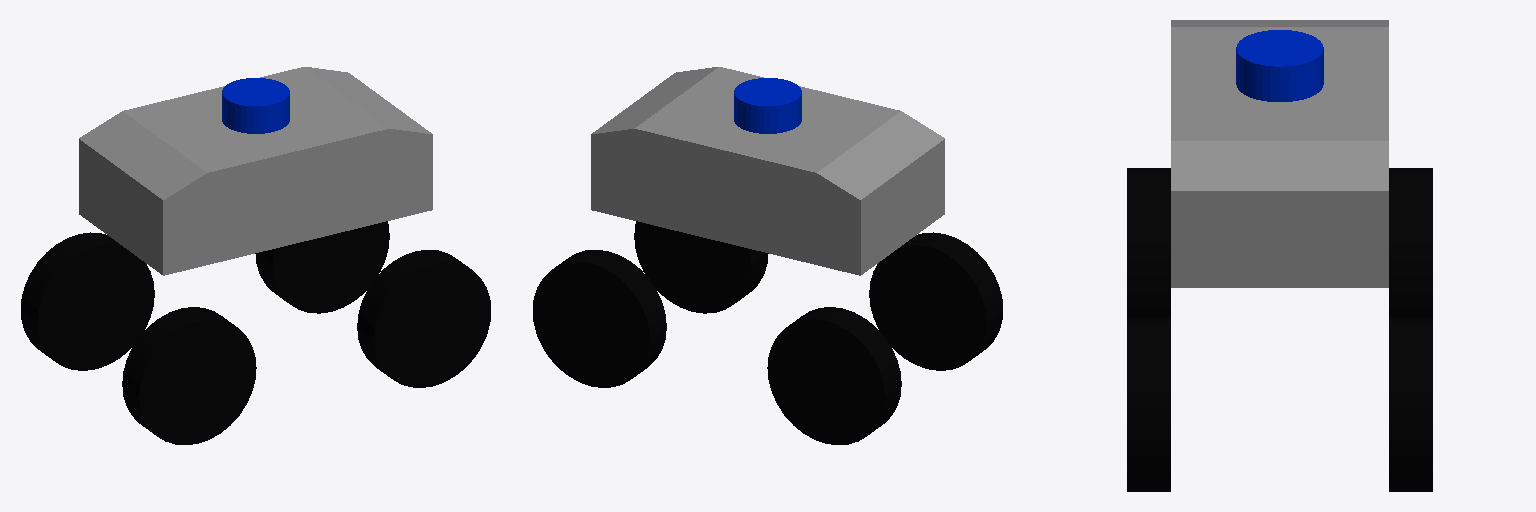
The robot description file, URDF, robot "team12_robot":
<?xml version="1.0" ?>
<!-- =================================================================================== -->
<!-- |    This document was autogenerated by xacro from src/team12_description/urdf/team12_amr.xacro | -->
<!-- |    EDITING THIS FILE BY HAND IS NOT RECOMMENDED                                 | -->
<!-- =================================================================================== -->
<robot name="team12_robot">
  <!-- ================= INERTIA MACROS ================= -->
  <!-- ================= MATERIALS ================= -->
  <material name="grey">
    <color rgba="0.6 0.6 0.6 1.0"/>
  </material>
  <material name="black">
    <color rgba="0.05 0.05 0.05 1.0"/>
  </material>
  <material name="blue">
    <color rgba="0.0 0.2 0.8 1.0"/>
  </material>
  <!-- ================= BASE LINK ================= -->
  <link name="base_link"/>
  <!-- ================= CHASSIS ================= -->
  <link name="chassis_link">
    <inertial>
      <mass value="15.0"/>
      <origin xyz="0 0 0"/>
      <inertia ixx="0.190625" ixy="0.0" ixz="0.0" iyy="0.342625" iyz="0.0" izz="0.377"/>
    </inertial>
    <visual>
      <origin rpy="0 0 0" xyz="0 0 0"/>
      <geometry>
        <mesh filename="package://team12_description/meshes/chassis.stl" scale="0.001 0.001 0.001"/>
      </geometry>
      <material name="grey"/>
    </visual>
    <collision>
      <origin rpy="0 0 0" xyz="0 0 0"/>
      <geometry>
        <mesh filename="package://team12_description/meshes/chassis.stl" scale="0.001 0.001 0.001"/>
      </geometry>
    </collision>
  </link>
  <joint name="base_joint" type="fixed">
    <parent link="base_link"/>
    <child link="chassis_link"/>
    <origin rpy="0 0 0" xyz="0 0 0.10"/>
  </joint>
  <!-- ================= WHEEL MACRO ================= -->
  <!-- ================= WHEELS ================= -->
  <link name="front_left_wheel_link">
    <inertial>
      <mass value="2.0"/>
      <origin xyz="0 0 0"/>
      <inertia ixx="0.005416666666666668" ixy="0.0" ixz="0.0" iyy="0.010000000000000002" iyz="0.0" izz="0.005416666666666668"/>
    </inertial>
    <visual>
      <origin rpy="1.5708 0 0" xyz="0 0 0"/>
      <geometry>
        <cylinder length="0.05" radius="0.10"/>
      </geometry>
      <material name="black"/>
    </visual>
    <collision>
      <origin rpy="1.5708 0 0" xyz="0 0 0"/>
      <geometry>
        <cylinder length="0.05" radius="0.10"/>
      </geometry>
    </collision>
  </link>
  <joint name="front_left_wheel_joint" type="continuous">
    <parent link="chassis_link"/>
    <child link="front_left_wheel_link"/>
    <origin rpy="0 0 0" xyz="0.2 0.15 -0.10"/>
    <axis xyz="0 1 0"/>
  </joint>
  <!-- Gazebo friction -->
  <gazebo reference="front_left_wheel_link">
    <mu1>1.0</mu1>
    <mu2>1.0</mu2>
    <kp>100000.0</kp>
    <kd>1.0</kd>
  </gazebo>
  <link name="front_right_wheel_link">
    <inertial>
      <mass value="2.0"/>
      <origin xyz="0 0 0"/>
      <inertia ixx="0.005416666666666668" ixy="0.0" ixz="0.0" iyy="0.010000000000000002" iyz="0.0" izz="0.005416666666666668"/>
    </inertial>
    <visual>
      <origin rpy="1.5708 0 0" xyz="0 0 0"/>
      <geometry>
        <cylinder length="0.05" radius="0.10"/>
      </geometry>
      <material name="black"/>
    </visual>
    <collision>
      <origin rpy="1.5708 0 0" xyz="0 0 0"/>
      <geometry>
        <cylinder length="0.05" radius="0.10"/>
      </geometry>
    </collision>
  </link>
  <joint name="front_right_wheel_joint" type="continuous">
    <parent link="chassis_link"/>
    <child link="front_right_wheel_link"/>
    <origin rpy="0 0 0" xyz="0.2 -0.15 -0.10"/>
    <axis xyz="0 1 0"/>
  </joint>
  <!-- Gazebo friction -->
  <gazebo reference="front_right_wheel_link">
    <mu1>1.0</mu1>
    <mu2>1.0</mu2>
    <kp>100000.0</kp>
    <kd>1.0</kd>
  </gazebo>
  <link name="rear_left_wheel_link">
    <inertial>
      <mass value="2.0"/>
      <origin xyz="0 0 0"/>
      <inertia ixx="0.005416666666666668" ixy="0.0" ixz="0.0" iyy="0.010000000000000002" iyz="0.0" izz="0.005416666666666668"/>
    </inertial>
    <visual>
      <origin rpy="1.5708 0 0" xyz="0 0 0"/>
      <geometry>
        <cylinder length="0.05" radius="0.10"/>
      </geometry>
      <material name="black"/>
    </visual>
    <collision>
      <origin rpy="1.5708 0 0" xyz="0 0 0"/>
      <geometry>
        <cylinder length="0.05" radius="0.10"/>
      </geometry>
    </collision>
  </link>
  <joint name="rear_left_wheel_joint" type="continuous">
    <parent link="chassis_link"/>
    <child link="rear_left_wheel_link"/>
    <origin rpy="0 0 0" xyz="-0.2 0.15 -0.10"/>
    <axis xyz="0 1 0"/>
  </joint>
  <!-- Gazebo friction -->
  <gazebo reference="rear_left_wheel_link">
    <mu1>1.0</mu1>
    <mu2>1.0</mu2>
    <kp>100000.0</kp>
    <kd>1.0</kd>
  </gazebo>
  <link name="rear_right_wheel_link">
    <inertial>
      <mass value="2.0"/>
      <origin xyz="0 0 0"/>
      <inertia ixx="0.005416666666666668" ixy="0.0" ixz="0.0" iyy="0.010000000000000002" iyz="0.0" izz="0.005416666666666668"/>
    </inertial>
    <visual>
      <origin rpy="1.5708 0 0" xyz="0 0 0"/>
      <geometry>
        <cylinder length="0.05" radius="0.10"/>
      </geometry>
      <material name="black"/>
    </visual>
    <collision>
      <origin rpy="1.5708 0 0" xyz="0 0 0"/>
      <geometry>
        <cylinder length="0.05" radius="0.10"/>
      </geometry>
    </collision>
  </link>
  <joint name="rear_right_wheel_joint" type="continuous">
    <parent link="chassis_link"/>
    <child link="rear_right_wheel_link"/>
    <origin rpy="0 0 0" xyz="-0.2 -0.15 -0.10"/>
    <axis xyz="0 1 0"/>
  </joint>
  <!-- Gazebo friction -->
  <gazebo reference="rear_right_wheel_link">
    <mu1>1.0</mu1>
    <mu2>1.0</mu2>
    <kp>100000.0</kp>
    <kd>1.0</kd>
  </gazebo>
  <!-- ================= LIDAR ================= -->
  <link name="lidar_link">
    <inertial>
      <mass value="0.5"/>
      <origin xyz="0 0 0"/>
      <inertia ixx="0.00041666666666666675" ixy="0.0" ixz="0.0" iyy="0.0006250000000000001" iyz="0.0" izz="0.00041666666666666675"/>
    </inertial>
    <visual>
      <origin rpy="0 0 0" xyz="0 0 0"/>
      <geometry>
        <cylinder length="0.05" radius="0.05"/>
      </geometry>
      <material name="blue"/>
    </visual>
    <collision>
      <geometry>
        <cylinder length="0.05" radius="0.05"/>
      </geometry>
    </collision>
  </link>
  <joint name="lidar_joint" type="fixed">
    <parent link="chassis_link"/>
    <child link="lidar_link"/>
    <origin rpy="0 0 0" xyz="0 0 0.23"/>
  </joint>
  <!-- ================= GAZEBO GLOBAL ================= -->
  <gazebo>
    <gravity>true</gravity>
  </gazebo>
</robot>

--- Render facts (derived) ---
Views: 3 orthographic renders of the robot side by side, from view 1: azimuth 30°, elevation 25°; view 2: azimuth 150°, elevation 25°; view 3: azimuth 270°, elevation 25°.
Model team12_robot with 7 links and 6 joints (4 continuous, 2 fixed), rooted at base_link, posed every joint at zero.
Links seen in each view (by area): view 1: chassis_link, rear_right_wheel_link, front_right_wheel_link, rear_left_wheel_link, front_left_wheel_link, lidar_link; view 2: chassis_link, rear_left_wheel_link, front_left_wheel_link, rear_right_wheel_link, front_right_wheel_link, lidar_link; view 3: chassis_link, front_left_wheel_link, front_right_wheel_link, rear_left_wheel_link, rear_right_wheel_link, lidar_link.
Boxes of the visible links, x1,y1,x2,y2 form: chassis_link: [79, 67, 432, 275]; rear_right_wheel_link: [122, 307, 256, 444]; front_right_wheel_link: [357, 250, 490, 387]; rear_left_wheel_link: [21, 232, 154, 370]; front_left_wheel_link: [255, 221, 389, 313]; lidar_link: [222, 78, 289, 133]; chassis_link: [591, 67, 944, 275]; rear_left_wheel_link: [767, 307, 901, 444]; front_left_wheel_link: [533, 250, 666, 387]; rear_right_wheel_link: [869, 232, 1002, 370]; front_right_wheel_link: [634, 221, 768, 313]; lidar_link: [734, 78, 801, 133]; chassis_link: [1171, 20, 1388, 287]; front_left_wheel_link: [1389, 317, 1432, 491]; front_right_wheel_link: [1127, 317, 1170, 491]; rear_left_wheel_link: [1389, 168, 1432, 316]; rear_right_wheel_link: [1127, 168, 1170, 316]; lidar_link: [1236, 30, 1323, 101].
Bounding box of the posed robot: 0.6 × 0.35 × 0.455 m (x, y, z).
1 mesh visuals loaded from 1 distinct referenced files (1 binary STL).
